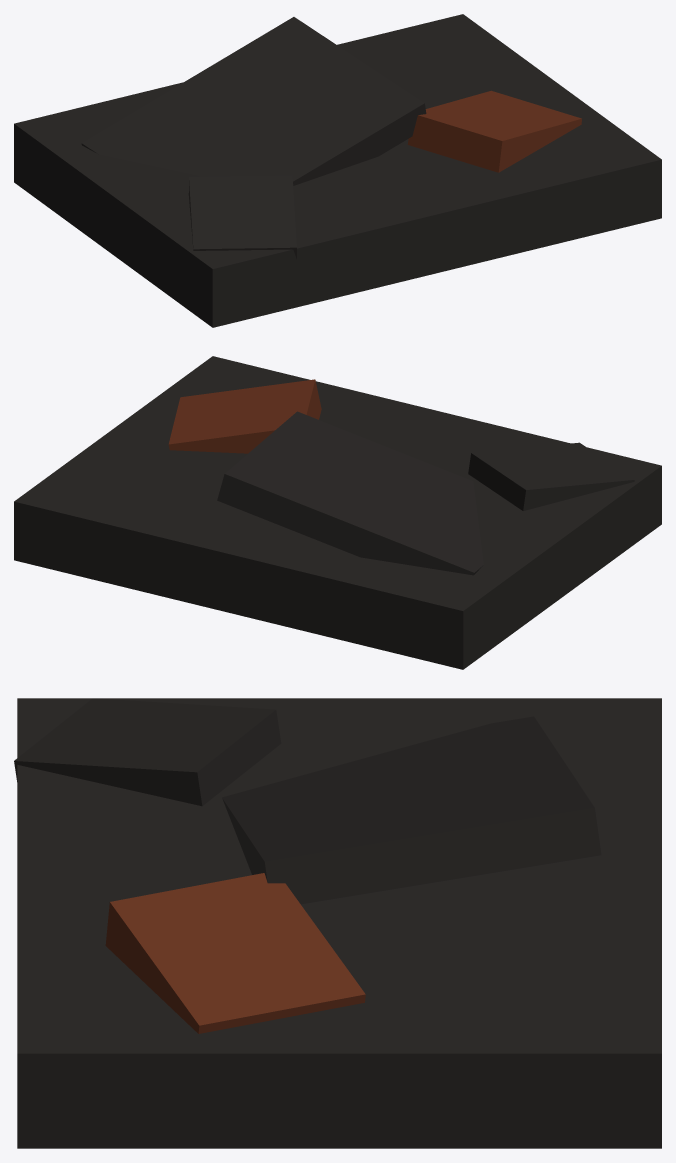
The model's file is RF_Prop_BuildingA_Destroyed.glb.
3 renders of one model, top to bottom at view 1: azimuth 30°, elevation 25°; view 2: azimuth 150°, elevation 25°; view 3: azimuth 270°, elevation 25°, orthographic. The views are drawn at different scales.
Visible parts, largest first — view 1: RF_Prop_BuildingA_Destroyed; view 2: RF_Prop_BuildingA_Destroyed; view 3: RF_Prop_BuildingA_Destroyed.
Boxes of the visible parts, x1=… form: RF_Prop_BuildingA_Destroyed: x1=14, y1=14, x2=661, y2=327; RF_Prop_BuildingA_Destroyed: x1=14, y1=356, x2=661, y2=669; RF_Prop_BuildingA_Destroyed: x1=14, y1=698, x2=661, y2=1148.
Size of the model in its own units: 6 by 1.5 by 4.62.
